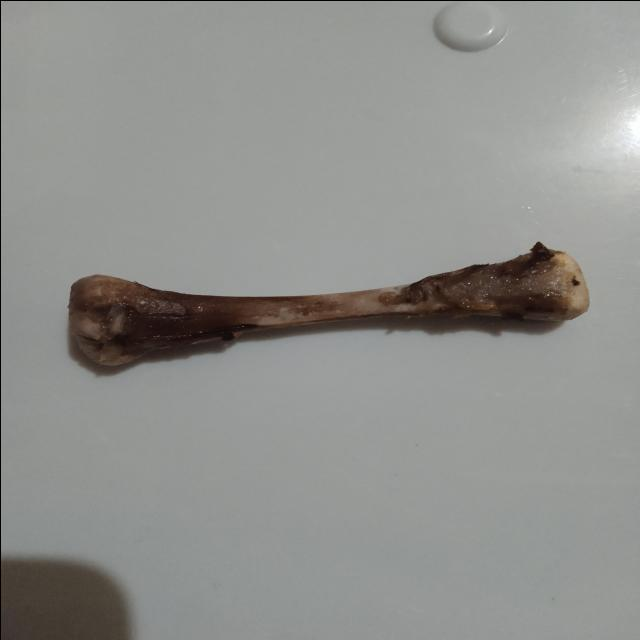bone: (60, 236, 596, 378)
